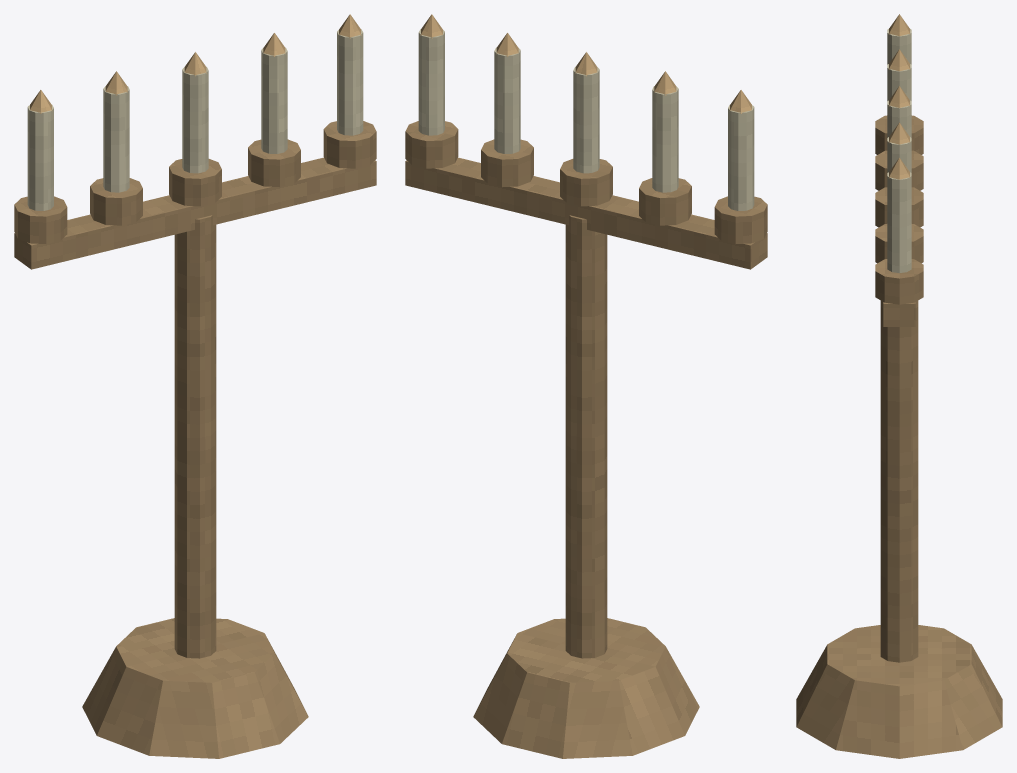
File: level_blockout_refined_castle_candelabrum.glb
The picture shows the model from 3 angles, left to right: view 1: azimuth 30°, elevation 25°; view 2: azimuth 150°, elevation 25°; view 3: azimuth 270°, elevation 25°; orthographic projection. The views are drawn at different scales.
Visible parts, largest first — view 1: level_blockout_refined_castle_candelabrum; view 2: level_blockout_refined_castle_candelabrum; view 3: level_blockout_refined_castle_candelabrum.
Part boxes in pixels (x1,y1,x2,y2): level_blockout_refined_castle_candelabrum: (14,14,376,758); level_blockout_refined_castle_candelabrum: (405,14,767,758); level_blockout_refined_castle_candelabrum: (796,14,1002,758).
Size of the model in its own units: 1.08 by 1.92 by 0.5706.
Materials: 3 (3 with a texture image).
